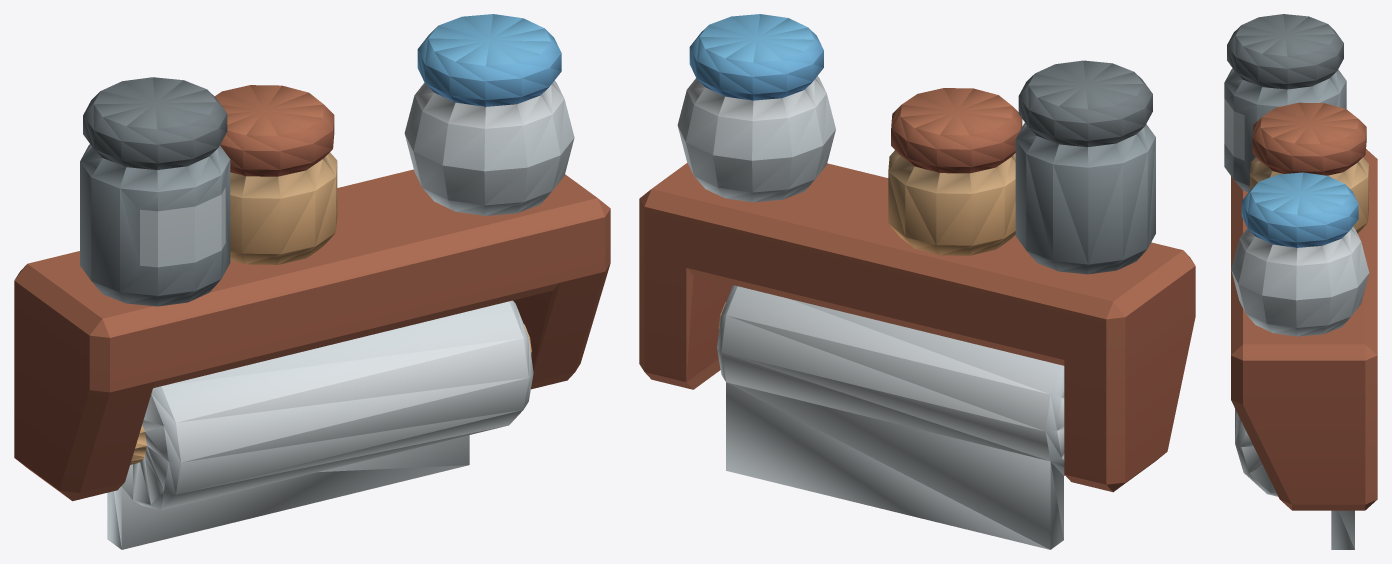
File: cafe_shelf.fbx
3 renders of one model, left to right at view 1: azimuth 30°, elevation 25°; view 2: azimuth 150°, elevation 25°; view 3: azimuth 270°, elevation 25°, orthographic. The views are drawn at different scales.
Parts seen in each view (by area): view 1: cafe_shelf_LOD0; view 2: cafe_shelf_LOD0; view 3: cafe_shelf_LOD0.
Boxes of the visible parts, x1,y1,x2,y2 form: cafe_shelf_LOD0: (14,14,610,549); cafe_shelf_LOD0: (639,14,1195,549); cafe_shelf_LOD0: (1224,14,1377,549).
Size of what is drawn, in the model's own units: 1 by 0.8549 by 0.3132.
1 material, 1 textured.
